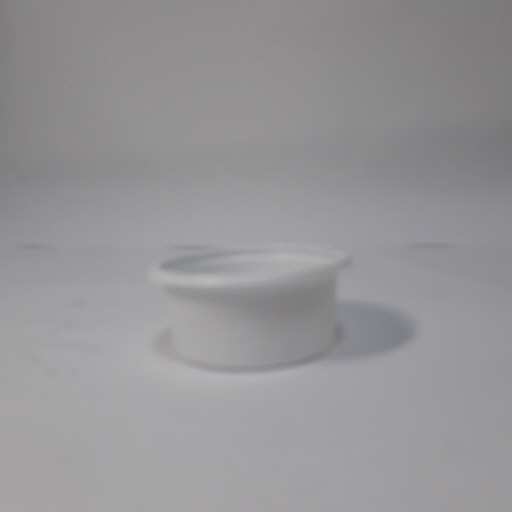Plastic_5: (148, 242, 354, 374)
